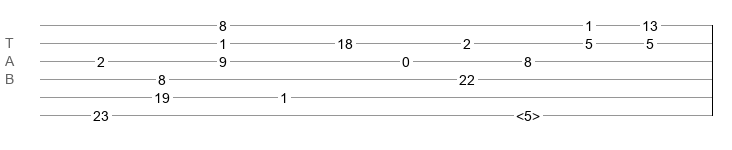0: (402, 54, 410, 64)
1: (219, 36, 227, 46), (280, 90, 288, 100), (585, 18, 593, 28)
13: (642, 18, 658, 28)
18: (337, 36, 353, 46)
19: (154, 90, 170, 100)
2: (97, 54, 105, 64), (463, 36, 471, 46)
22: (459, 72, 475, 82)
23: (93, 108, 109, 118)
5: (585, 36, 593, 46), (646, 36, 654, 46)
8: (158, 72, 166, 82), (219, 18, 227, 28), (524, 54, 532, 64)
9: (219, 54, 227, 64)
harmonic: (516, 108, 540, 118)
